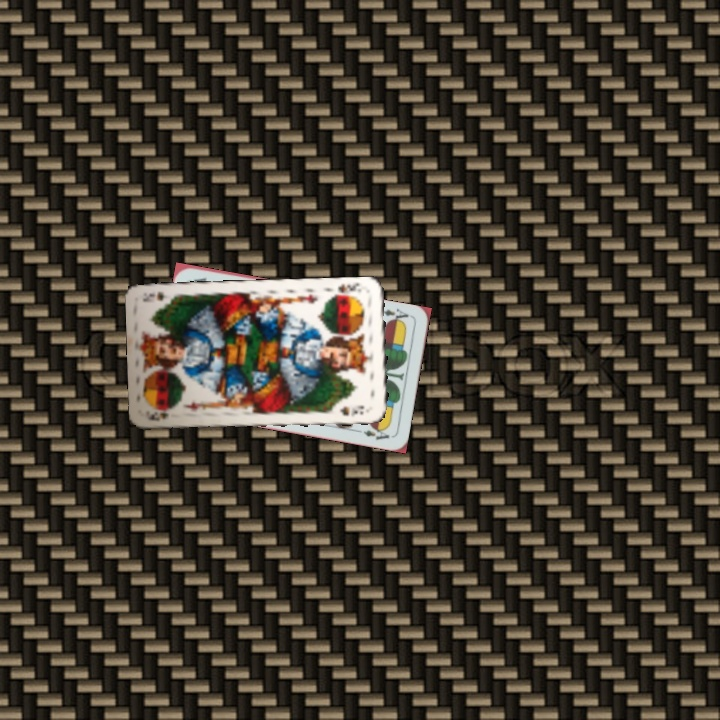EA: (379, 305, 411, 326)
SK: (328, 280, 363, 300), (143, 407, 171, 424)
